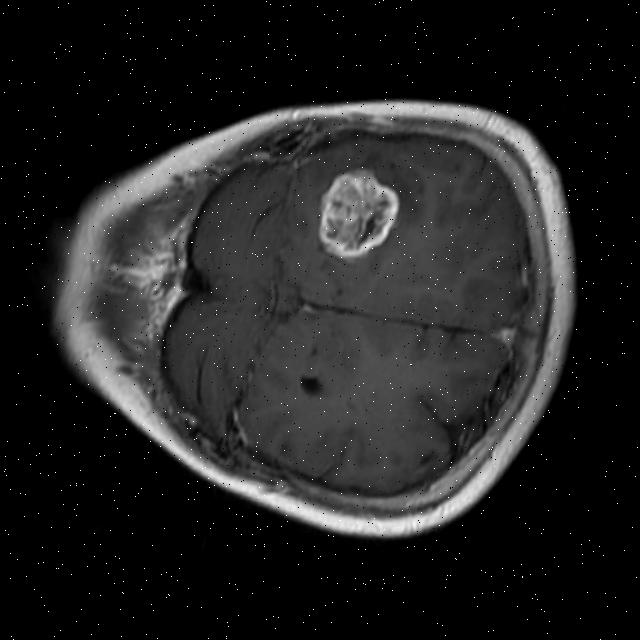Glioma: (305, 158, 407, 270)
